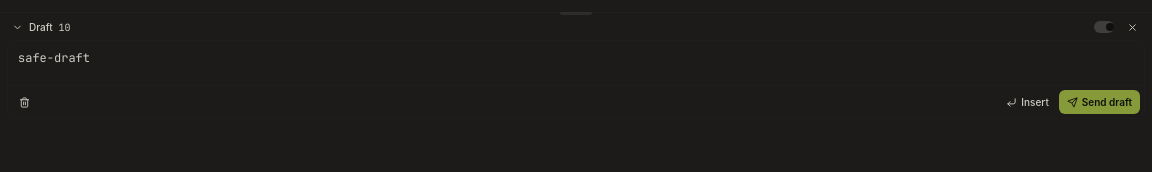
Test: draft delivery through the component, nonce ACK and real sequence encoder › shows no success label until accepted, rejects without clearing, and suppresses duplicate clicks
Click the button "Insert" at (1028, 102), box [998,90,1057,114]
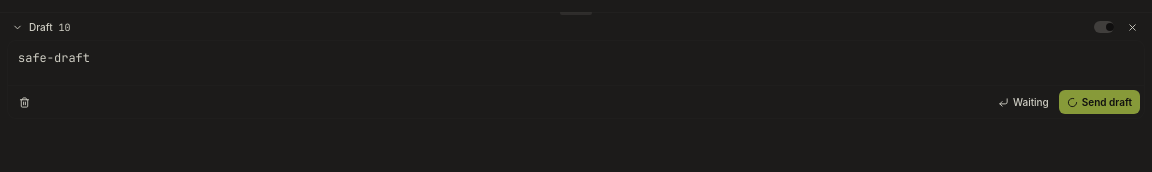
Click the button "Send draft" at (1099, 102), box [1059,90,1140,114]
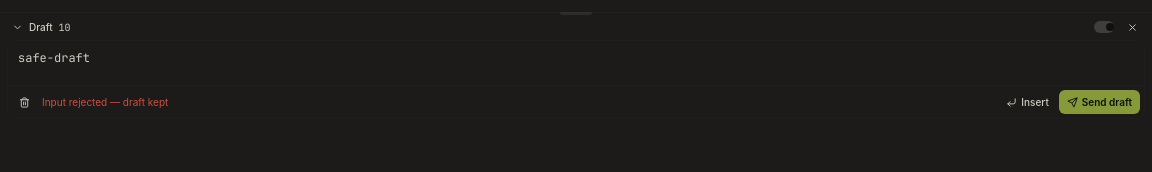
Expected: the text box holds "safe-draft", [8,41,1144,85]
Result: the message shows "Input rejected" at [42,96,168,108]
